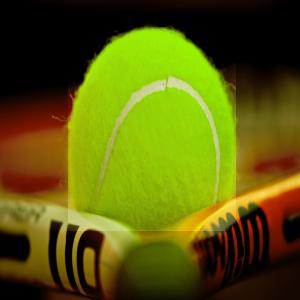TennisBall: (69, 28, 238, 233)
